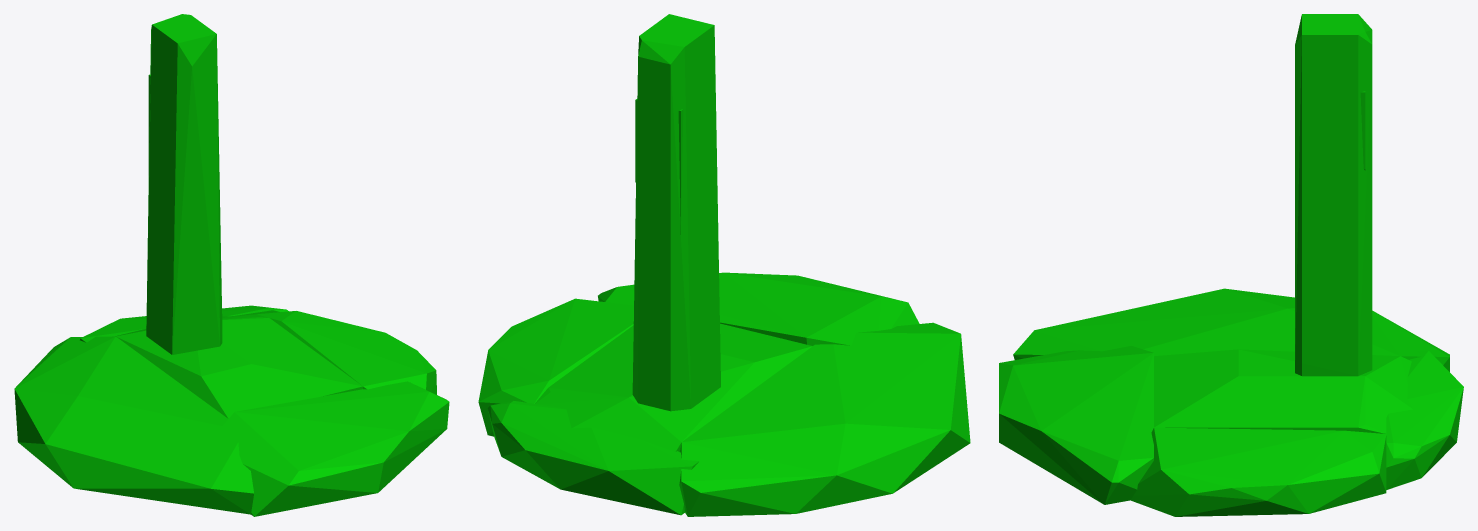
Rendered from UCX_Fan1.fbx.
3 renders of one model, left to right at view 1: azimuth 30°, elevation 25°; view 2: azimuth 150°, elevation 25°; view 3: azimuth 270°, elevation 25°, orthographic. The views are drawn at different scales.
Visible parts, largest first — view 1: UCX_Fan1; view 2: UCX_Fan1; view 3: UCX_Fan1.
Part boxes in pixels (x1=…): UCX_Fan1: x1=14, y1=14, x2=449, y2=516; UCX_Fan1: x1=478, y1=14, x2=970, y2=516; UCX_Fan1: x1=999, y1=14, x2=1463, y2=516.
Size of the model in its own units: 0.3038 by 0.2811 by 0.2993.
